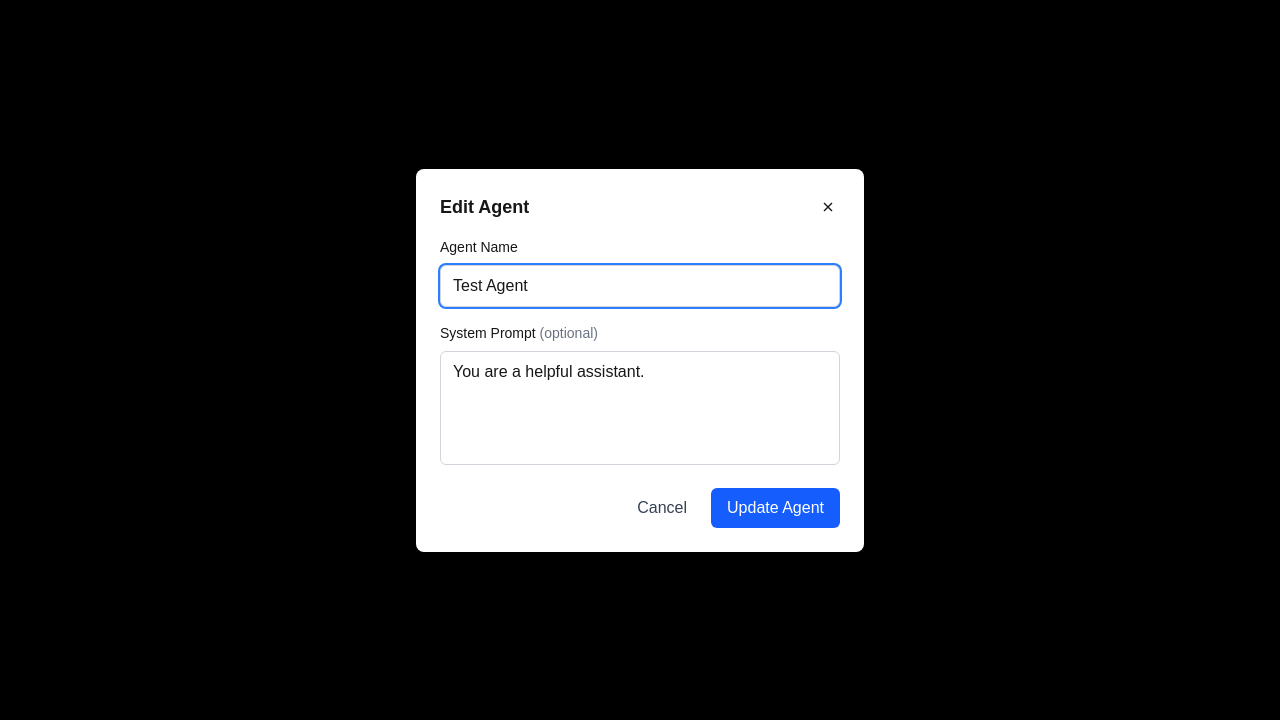
Test: EditAgentModal › Button States › update button is enabled when name has content
expect the button "Update Agent" is enabled: met, box [711,488,840,528]
Clear the field labelled "Agent Name": (640, 286) [440,264,840,306]
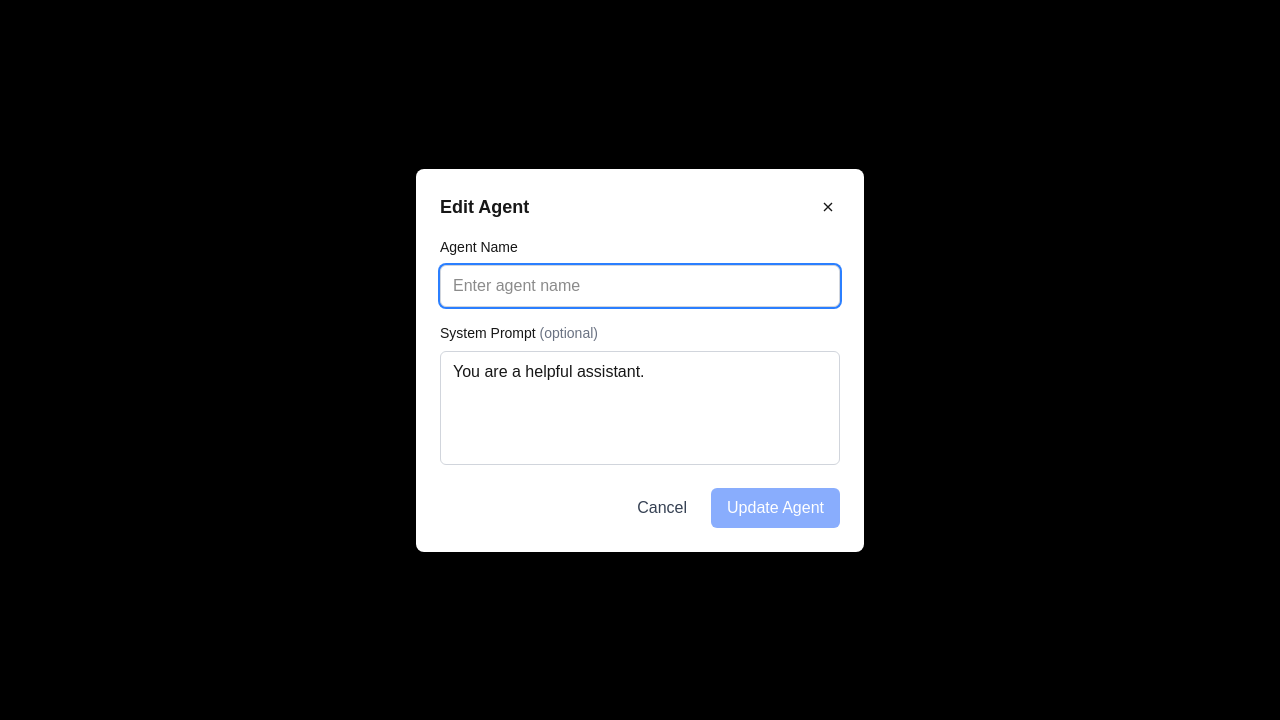
expect the button "Update Agent" is disabled: met, box [711,488,840,528]
In the field labelled "Agent Name": (640, 286) [440,264,840,306], type "A"
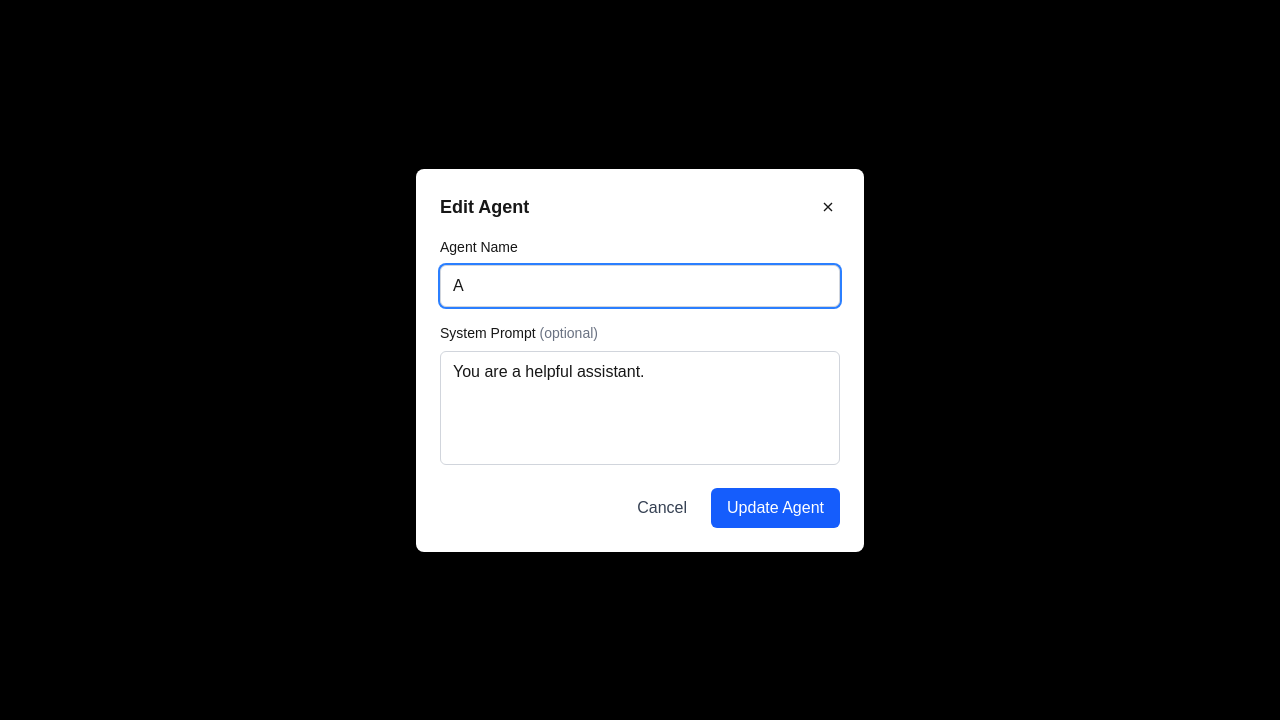
expect the button "Update Agent" is enabled: met, box [711,488,840,528]
